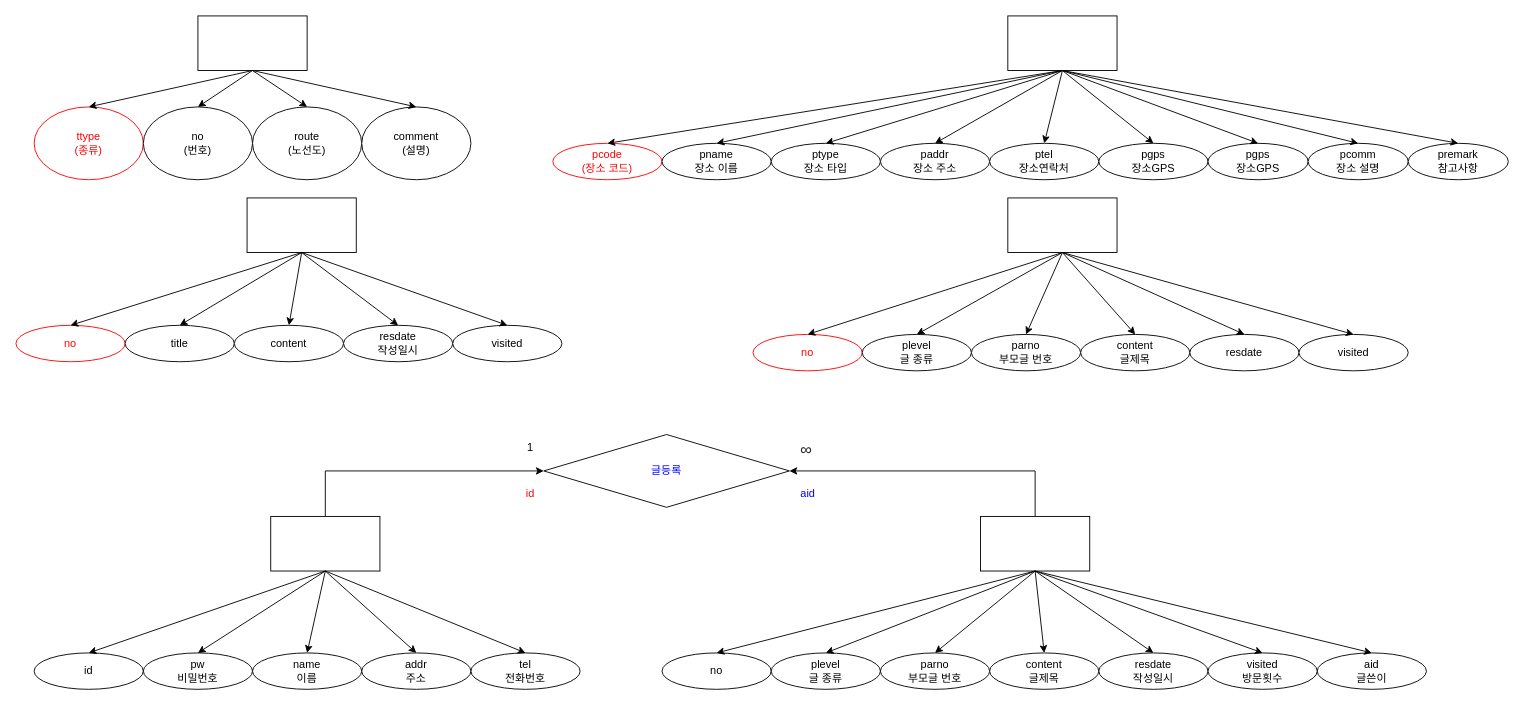
This 1524x705 diagram has some shape labels left out. Each missing label, with the centre of its shape:
"data 자료실" belongs at point (1062, 225).
"Guide 이용 안내" belongs at point (1062, 43).
"member 사용자" belongs at point (325, 543).
"notice 공지사항" belongs at point (301, 225).
"qna 질문응답" belongs at point (1035, 543).
"Traffic 교통편 안내" belongs at point (252, 43).
